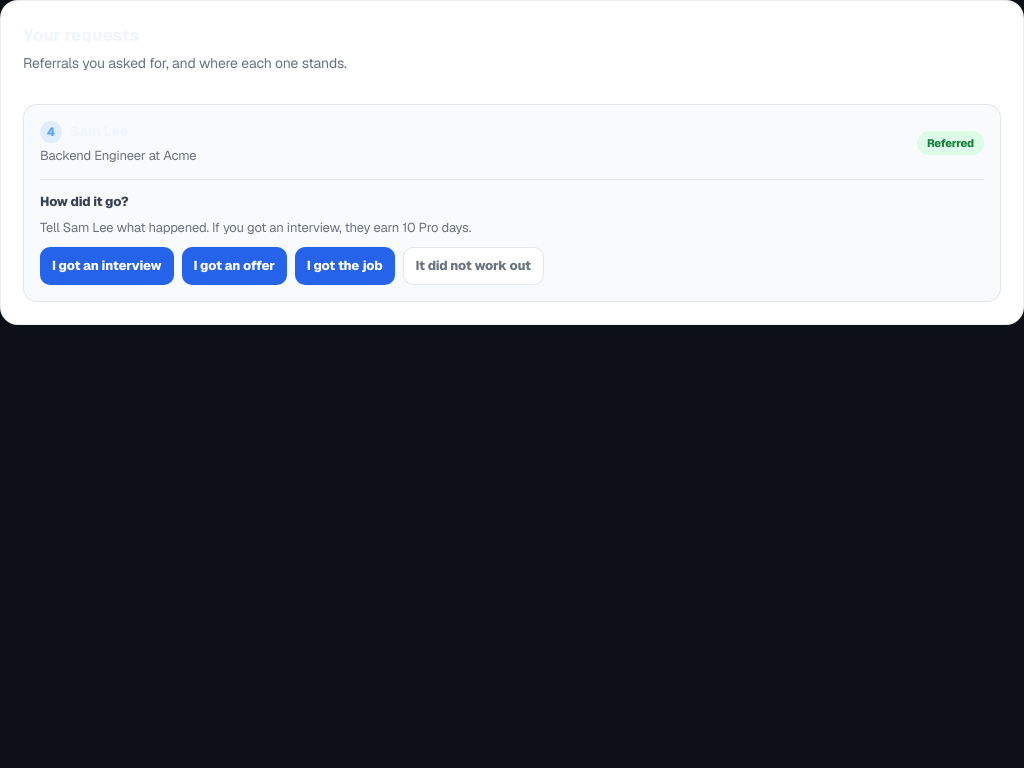
it: SentReferralsCard › reports a miss too, and earns nothing for it
Click the button "It did not work out" at (473, 266), box [403, 247, 544, 284]
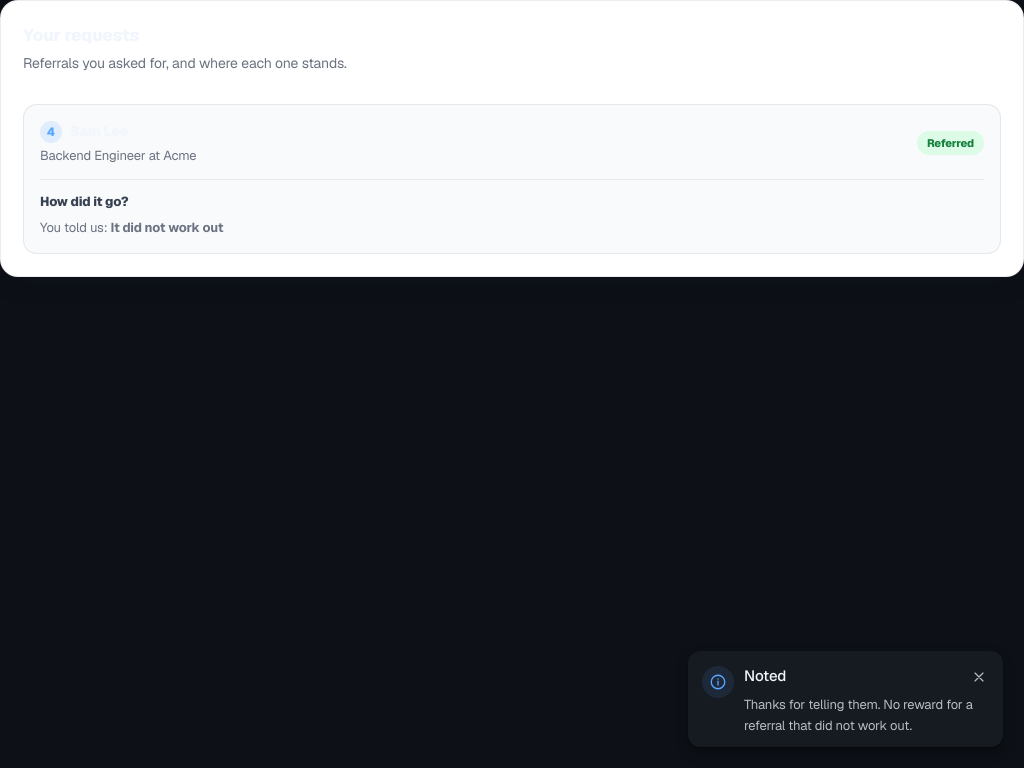
Now the text "No reward for a referral that did not work out" is shown, box [744, 696, 973, 734]
